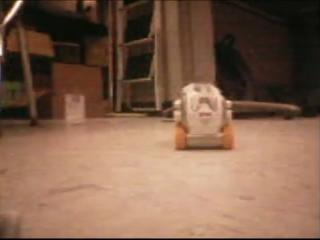cozmo: (167, 78, 238, 152)
